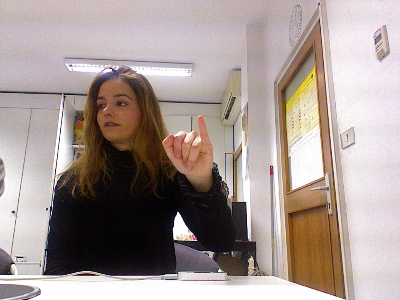小指: (161, 113, 214, 177)
